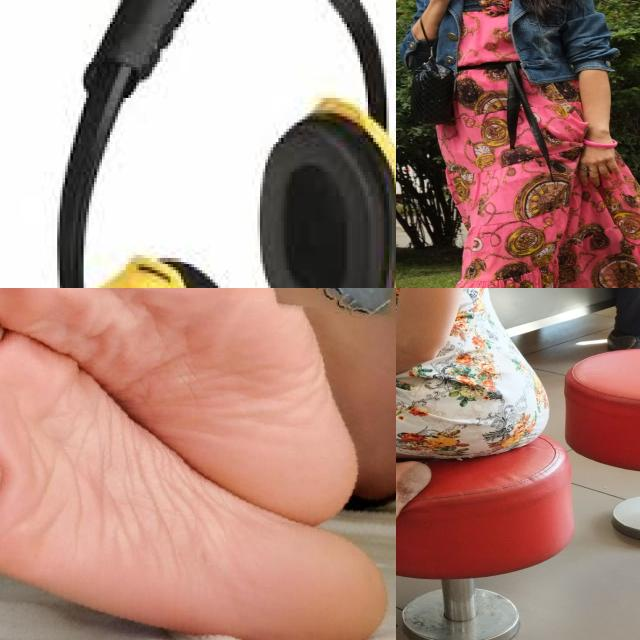Barefoots: (0, 316, 396, 640), (0, 288, 370, 522), (396, 461, 431, 558)
Ear-protection: (242, 93, 396, 288)
